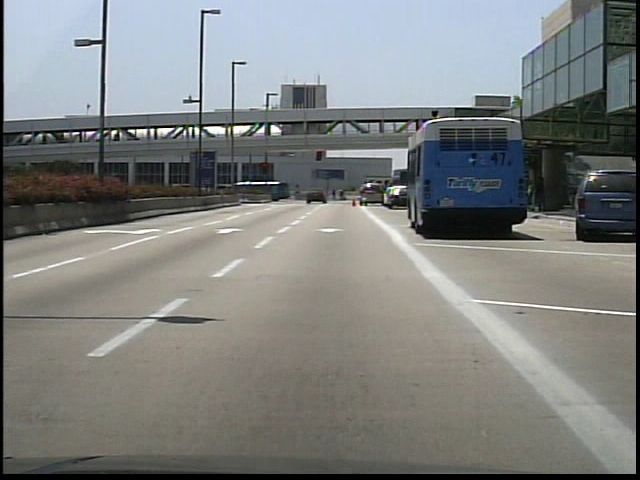car: (575, 167, 640, 242), (359, 183, 384, 207), (303, 186, 328, 205)
strada: (7, 215, 576, 467)
